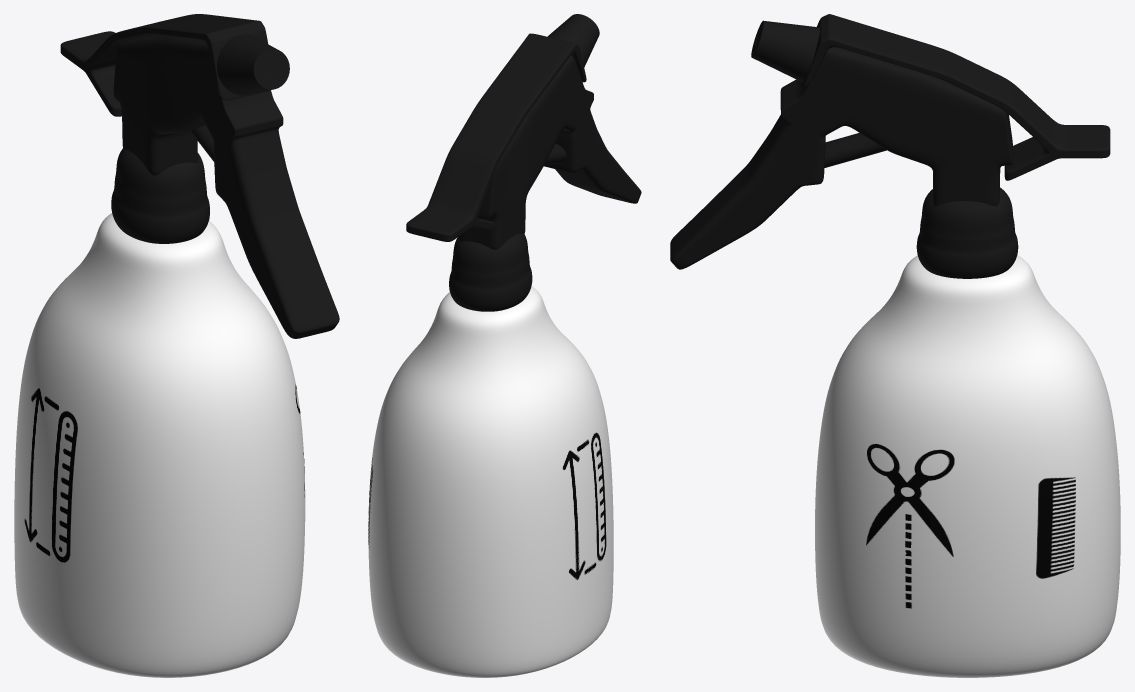
Rendered from Spray.fbx.
The picture shows the model from 3 angles, left to right: view 1: azimuth 30°, elevation 25°; view 2: azimuth 150°, elevation 25°; view 3: azimuth 270°, elevation 25°; orthographic projection. The views are drawn at different scales.
Parts seen in each view (by area): view 1: Cube, Cube.003, Cube.001, Cube.002, Cylinder; view 2: Cube, Cube.003, Cube.002, Cube.001, Cylinder; view 3: Cube, Cube.003, Cube.002, Cube.001, Cylinder, Cylinder.001.
Boxes of the visible parts, x1,y1,x2,y2 form: Cube: [14, 213, 305, 677]; Cube.003: [113, 34, 339, 338]; Cube.001: [111, 148, 209, 243]; Cube.002: [60, 14, 267, 116]; Cylinder: [217, 34, 289, 95]; Cube: [368, 286, 613, 677]; Cube.003: [458, 55, 641, 249]; Cube.002: [406, 33, 586, 241]; Cube.001: [449, 233, 532, 311]; Cylinder: [547, 14, 599, 67]; Cube: [815, 255, 1120, 677]; Cube.003: [670, 47, 1012, 269]; Cube.002: [801, 14, 1110, 180]; Cube.001: [916, 187, 1018, 278]; Cylinder: [751, 20, 819, 81]; Cylinder.001: [824, 133, 886, 167].
Bounding box in the file's own units: 6.65 × 17.47 × 11.69.
Materials: 3 (1 with a texture image).
